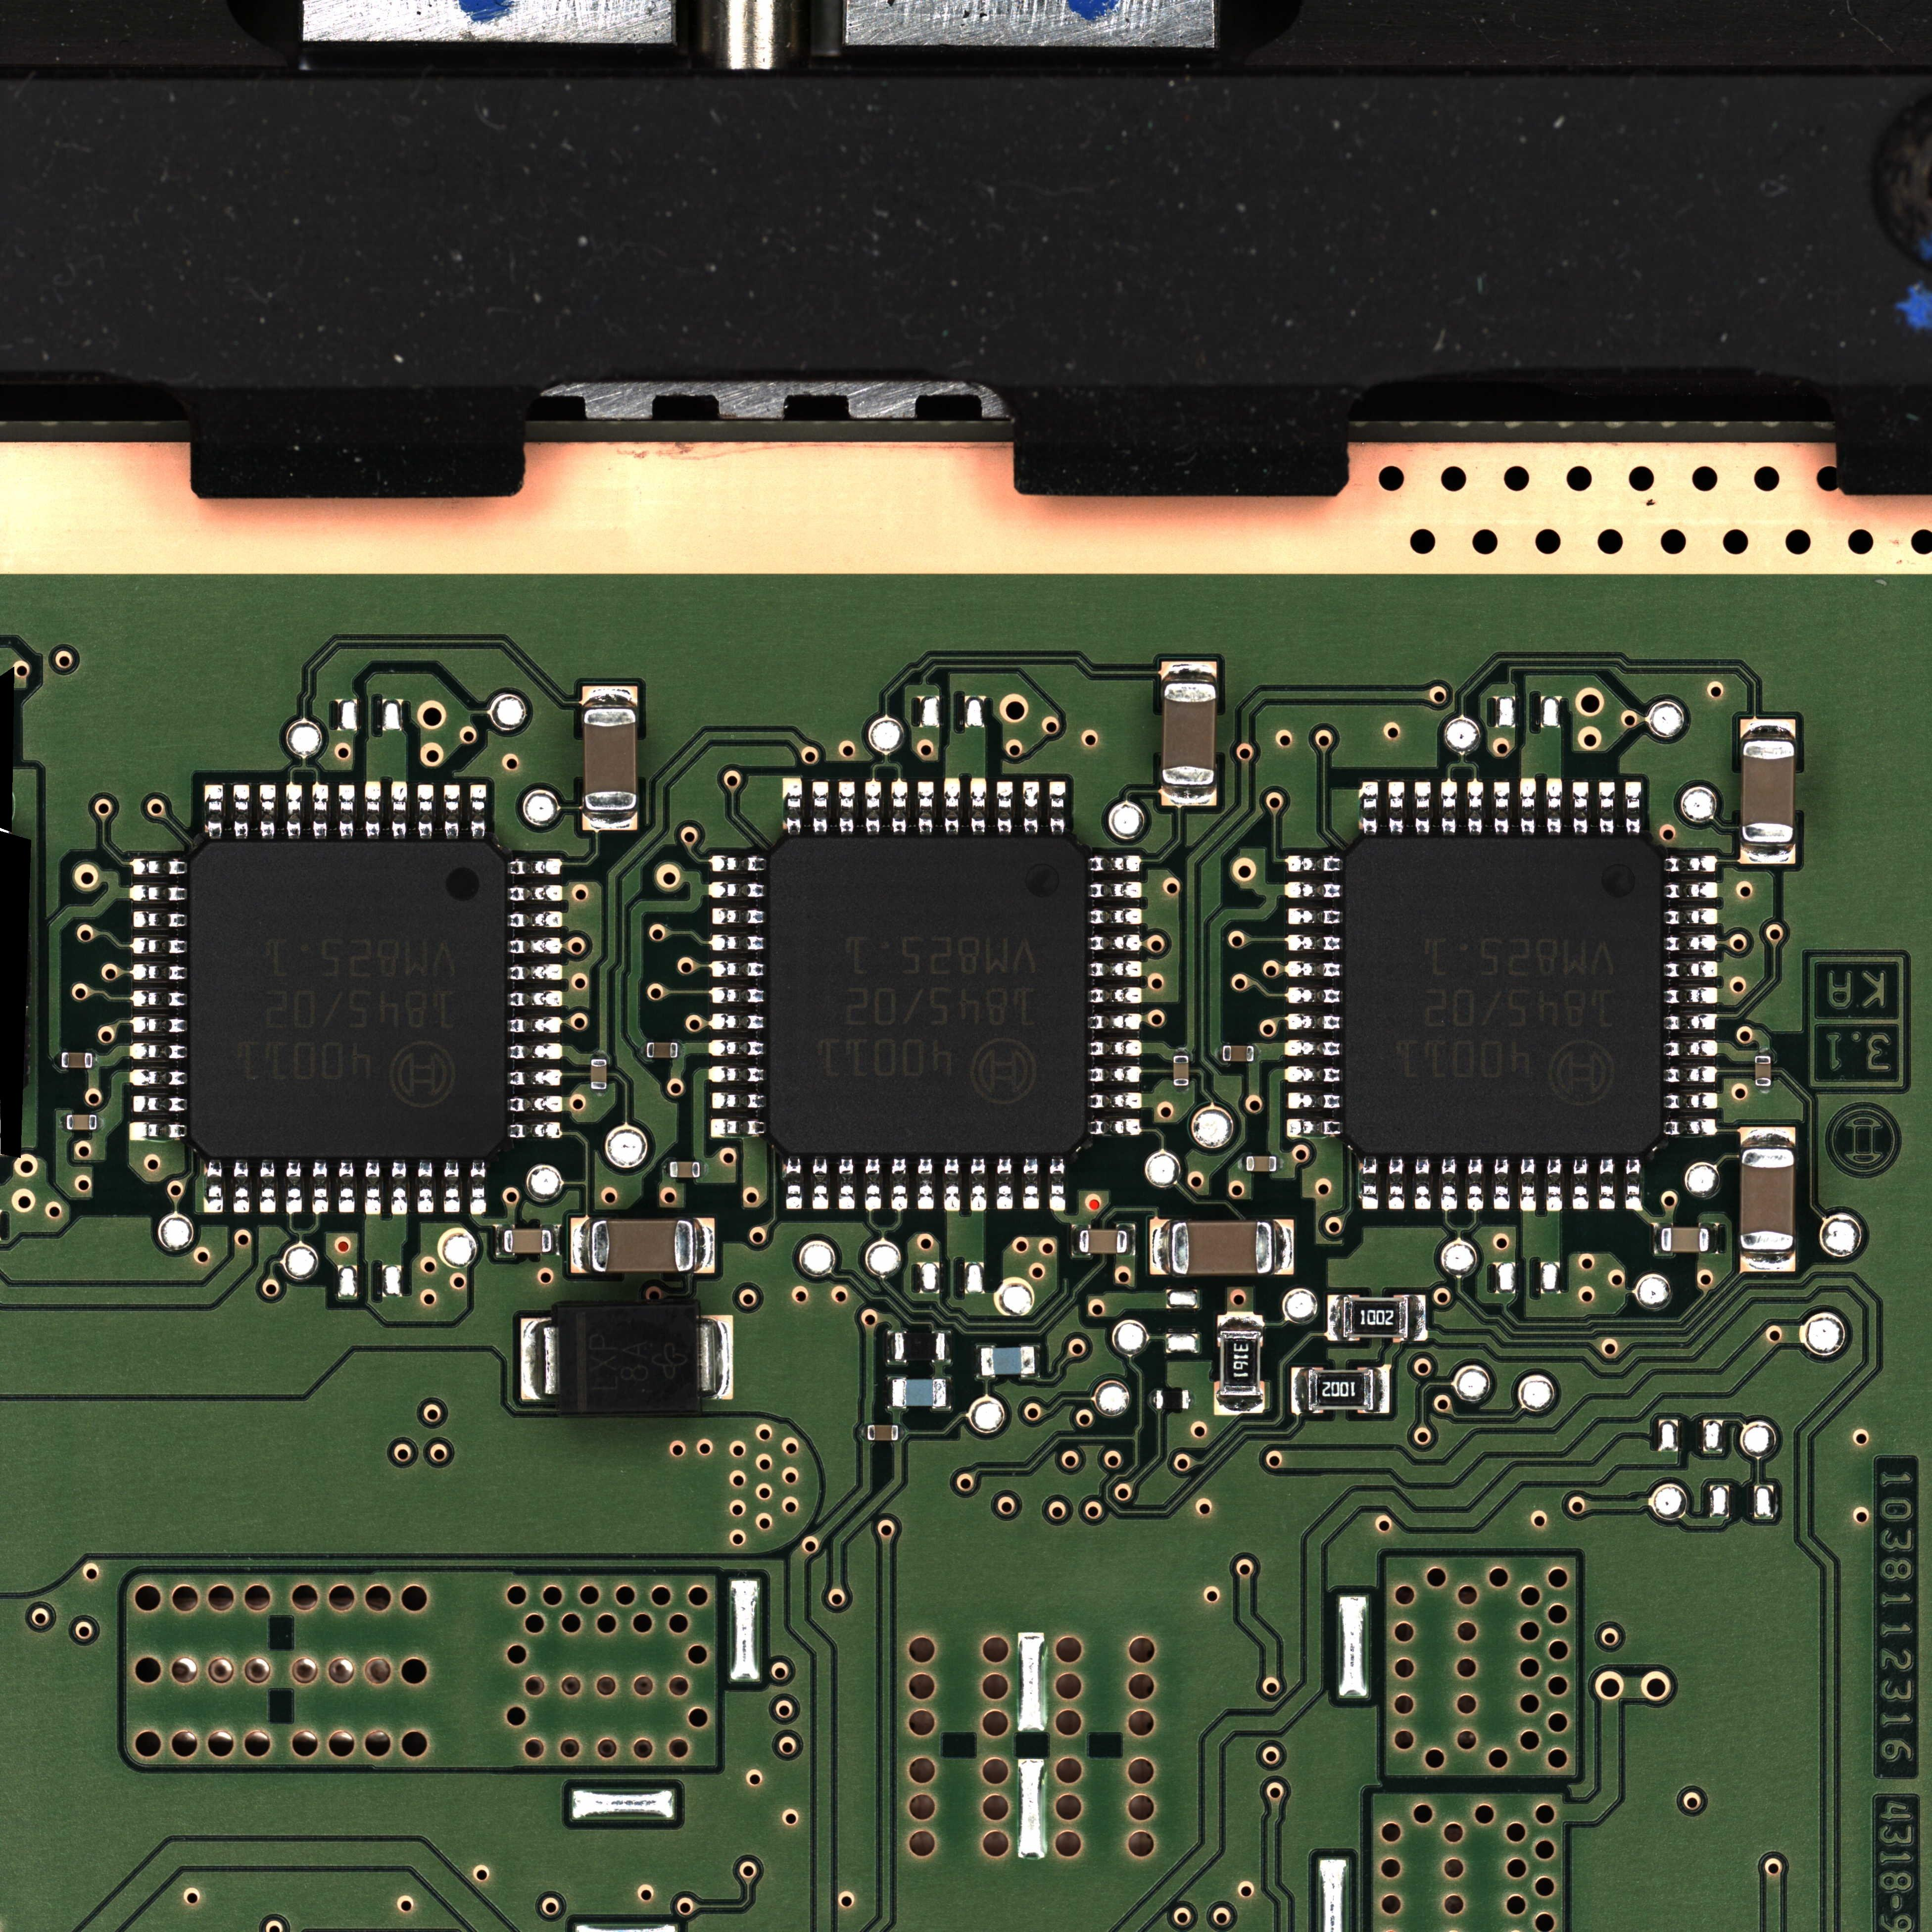Package: (1346, 837, 1661, 1154), (191, 844, 506, 1157), (771, 837, 1083, 1154), (561, 1306, 695, 1412), (591, 1219, 694, 1272), (584, 709, 637, 810), (1162, 683, 1215, 784), (1171, 1221, 1272, 1274), (1741, 1150, 1794, 1249), (1743, 741, 1794, 840), (1219, 1330, 1261, 1396), (1343, 1297, 1408, 1338), (1309, 1369, 1373, 1410), (982, 1346, 1035, 1376), (892, 1378, 947, 1407), (895, 1332, 945, 1361), (1661, 1228, 1709, 1253), (504, 1230, 552, 1253), (1079, 1230, 1127, 1253), (1155, 1391, 1189, 1408), (867, 1424, 899, 1440), (1223, 1046, 1254, 1062), (648, 1042, 678, 1058), (591, 1060, 607, 1090), (67, 1115, 97, 1131), (62, 1053, 92, 1069), (1755, 1056, 1771, 1086), (1173, 1056, 1189, 1086), (1246, 1155, 1276, 1171), (671, 1162, 699, 1177)
Solder: (520, 1318, 559, 1401), (697, 1315, 732, 1399), (1739, 842, 1796, 865), (582, 686, 637, 709), (1741, 718, 1796, 741), (694, 1217, 715, 1274), (1161, 786, 1217, 807), (1150, 1219, 1171, 1276), (1272, 1219, 1293, 1276), (1739, 1251, 1796, 1272), (1739, 1127, 1796, 1148), (1162, 662, 1217, 683), (709, 1118, 768, 1138), (129, 1122, 186, 1141), (1286, 1118, 1343, 1138), (203, 1159, 223, 1214), (782, 778, 801, 833), (582, 810, 637, 830), (708, 1065, 768, 1083), (129, 885, 188, 902), (129, 1042, 188, 1060), (708, 881, 766, 899), (1359, 782, 1378, 835), (1284, 855, 1343, 872), (1284, 881, 1343, 899), (1284, 1065, 1343, 1083), (131, 858, 188, 876), (709, 855, 766, 872), (709, 934, 766, 952), (970, 778, 987, 835), (571, 1217, 589, 1274), (1440, 778, 1458, 835), (1286, 1092, 1343, 1109), (1286, 987, 1343, 1005), (1214, 1396, 1265, 1415), (205, 784, 223, 839), (338, 1159, 356, 1214), (508, 858, 563, 876), (508, 885, 563, 902), (508, 938, 563, 955), (508, 911, 563, 929), (786, 1155, 803, 1210), (943, 1157, 961, 1212), (711, 1092, 766, 1109), (508, 1122, 563, 1139), (508, 1095, 563, 1113), (508, 1069, 563, 1086), (970, 1157, 987, 1212), (1088, 881, 1143, 899), (1088, 908, 1143, 925), (1088, 934, 1143, 952), (1288, 908, 1343, 925), (1088, 961, 1143, 978), (996, 1155, 1014, 1210), (1361, 1155, 1378, 1210), (1088, 987, 1143, 1005), (1088, 1092, 1143, 1109), (1088, 1118, 1143, 1136), (1440, 1157, 1458, 1212), (1624, 1157, 1642, 1212), (1663, 1118, 1718, 1136), (311, 1161, 329, 1214), (916, 1157, 934, 1210), (1414, 1157, 1431, 1210), (1665, 934, 1718, 952), (1665, 908, 1718, 925), (1665, 961, 1718, 978), (1598, 1157, 1615, 1210), (1467, 1157, 1484, 1210), (1665, 987, 1718, 1005), (364, 780, 380, 839), (131, 964, 189, 980), (129, 1069, 188, 1085), (708, 1040, 766, 1056), (1284, 961, 1343, 977), (1284, 1040, 1343, 1056), (1665, 1014, 1716, 1031), (287, 782, 303, 839), (313, 782, 329, 839), (391, 782, 407, 839), (131, 938, 188, 954), (471, 1159, 487, 1215), (364, 1159, 380, 1215), (131, 1017, 188, 1033), (865, 778, 881, 835), (892, 778, 908, 835), (945, 778, 961, 835), (709, 961, 766, 977), (709, 1014, 766, 1030), (709, 987, 766, 1003), (1286, 934, 1343, 950), (1286, 1014, 1343, 1030), (1546, 778, 1562, 835), (1467, 778, 1483, 835), (1520, 778, 1536, 835), (418, 784, 433, 839), (338, 784, 354, 839), (260, 784, 276, 839), (444, 784, 460, 839), (234, 784, 249, 839), (471, 784, 487, 839), (133, 911, 188, 927), (418, 1159, 433, 1214), (234, 1159, 249, 1214), (260, 1159, 276, 1214), (391, 1161, 407, 1215), (133, 1097, 188, 1113), (131, 991, 186, 1007), (839, 780, 855, 835), (918, 780, 934, 835), (711, 908, 766, 924), (508, 964, 563, 980), (508, 1044, 563, 1060), (508, 1017, 563, 1033), (508, 991, 563, 1007), (1415, 780, 1431, 835), (1049, 780, 1065, 835), (996, 780, 1012, 835), (1049, 1157, 1065, 1212), (1088, 1014, 1143, 1030), (1088, 1067, 1143, 1083), (1088, 1040, 1143, 1056), (1573, 780, 1589, 835), (1493, 780, 1509, 835), (1546, 1157, 1562, 1212), (1520, 1157, 1536, 1212), (444, 1161, 460, 1214), (287, 1161, 303, 1214), (812, 782, 828, 835), (839, 1157, 855, 1210), (865, 1157, 881, 1210), (812, 1157, 828, 1210), (892, 1157, 908, 1210), (1088, 856, 1141, 872), (1023, 782, 1039, 835), (1389, 782, 1405, 835), (1389, 1157, 1405, 1210), (1023, 1157, 1039, 1210), (1626, 782, 1642, 835), (1665, 856, 1718, 872), (1599, 782, 1615, 835), (1665, 883, 1718, 899), (1573, 1157, 1589, 1210), (1493, 1157, 1509, 1210), (1665, 1093, 1718, 1109), (1665, 1067, 1718, 1083), (1665, 1040, 1718, 1056), (1217, 1313, 1263, 1330), (1408, 1295, 1426, 1341), (1375, 1366, 1391, 1414), (1327, 1295, 1343, 1341), (1292, 1368, 1307, 1414), (495, 1224, 504, 1256), (1127, 1224, 1136, 1256), (1709, 1223, 1718, 1254), (886, 1332, 895, 1362), (945, 1330, 952, 1362), (1072, 1224, 1079, 1256), (1654, 1223, 1661, 1254), (552, 1224, 559, 1254), (886, 1378, 893, 1408), (975, 1346, 982, 1376), (1035, 1345, 1040, 1376), (947, 1378, 952, 1408), (699, 1161, 708, 1178), (58, 1115, 67, 1131), (53, 1053, 62, 1069), (662, 1161, 671, 1177), (591, 1051, 607, 1060), (1276, 1155, 1284, 1171), (1150, 1391, 1157, 1408), (97, 1115, 104, 1131), (92, 1053, 99, 1069), (640, 1042, 648, 1058), (860, 1424, 867, 1440), (591, 1090, 607, 1097), (678, 1042, 685, 1058), (899, 1424, 906, 1440), (1173, 1049, 1189, 1056), (1173, 1086, 1189, 1093), (1238, 1155, 1246, 1171), (1254, 1046, 1261, 1062), (1215, 1046, 1223, 1062), (1755, 1086, 1771, 1093), (1755, 1049, 1771, 1056), (1189, 1391, 1194, 1408)
